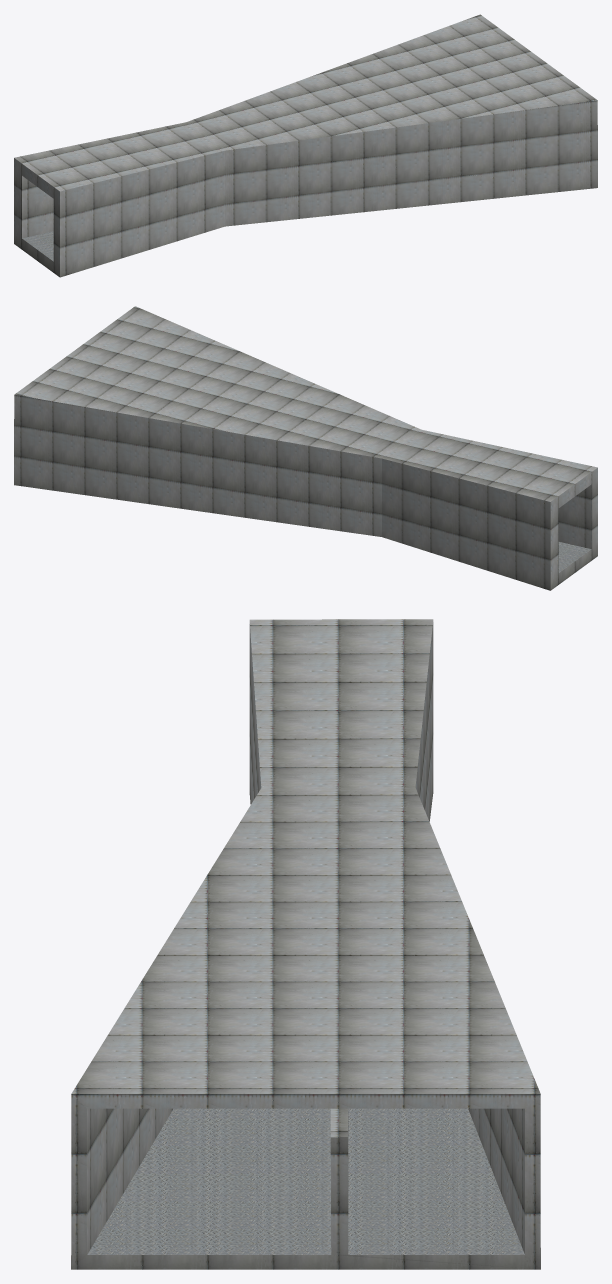
File: double_corridor.FBX
3 renders of one model, top to bottom at view 1: azimuth 30°, elevation 25°; view 2: azimuth 150°, elevation 25°; view 3: azimuth 270°, elevation 25°, orthographic. The views are drawn at different scales.
Visible parts, largest first — view 1: Cone_Tunnel; view 2: Cone_Tunnel; view 3: Cone_Tunnel.
Boxes of the visible parts, <box> form: Cone_Tunnel: <box>14,14,597,277</box>; Cone_Tunnel: <box>14,306,597,590</box>; Cone_Tunnel: <box>71,619,540,1269</box>.
Size of the model in its own units: 523 by 90.64 by 216.
